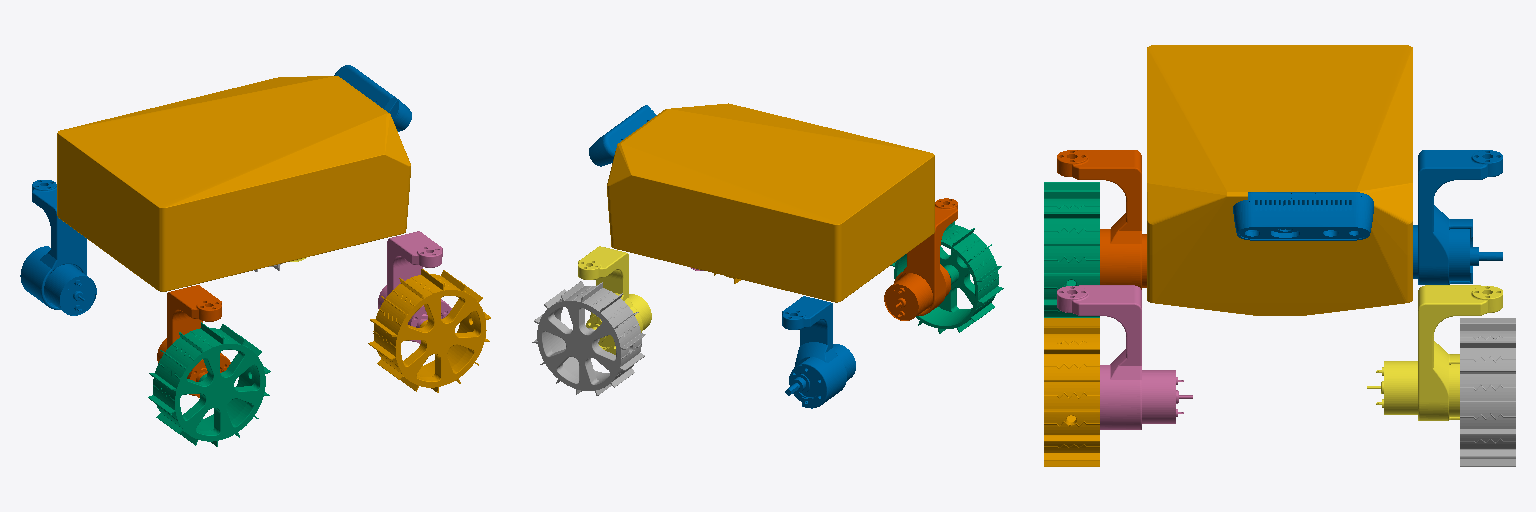
The robot description file, URDF, robot "rocker_bogie_4wd_rover":
<?xml version='1.0' encoding='utf-8'?>
<robot name="rocker_bogie_4wd_rover">
  <!-- KSRC Isaac variant: base_link visual+collision = convex hull (Isaac collider is a convex hull anyway). From rover_rev5.urdf.
  KSRC: generated by fix_rev5.py from rocker_bogie_4wd_rover.urdf (rev5 2026-10-14). Fixes: right steering names swapped, steering axis +z, wheel axes +y, base origin at module center (+18.3 mm), old link names, old joint limits (+-90 deg), wheel meshes re-centred on the steering axis (export offset 4.5 mm; assembly rev5.stl has the tread centred). Masses unchanged. -->
  <link name="base_link">
    <inertial>
      <origin xyz="0.010290799972 0.003240341788 -0.025673826811" rpy="0 0 0" />
      <mass value="0.847900053986" />
      <inertia ixx="0.002302831138" ixy="-0.000113581036669" ixz="0.000108137936490" iyy="0.004180321839" iyz="0.000015141466736" izz="0.005334787938" />
    </inertial>
    <visual>
      <origin xyz="0.01830665319 0 0" rpy="0 0 0" />
      <geometry>
        <mesh filename="meshes/rev5/base_link_hull.stl" scale="0.001 0.001 0.001" />
      </geometry>
    </visual>
    <collision>
      <origin xyz="0.01830665319 0 0" rpy="0 0 0" />
      <geometry>
        <mesh filename="meshes/rev5/base_link_hull.stl" scale="0.001 0.001 0.001" />
      </geometry>
    </collision>
  </link>
  <link name="left_rocker_link">
    <inertial>
      <origin xyz="0.000041281766 0.055638256545 -0.022265167017" rpy="0 0 0" />
      <mass value="0.186900033238" />
      <inertia ixx="0.000095809929947" ixy="0.000000472580802" ixz="-0.000000167203869" iyy="0.001204701265" iyz="0.000027487080501" izz="0.001220632439" />
    </inertial>
    <visual>
      <origin xyz="0 0 0" rpy="0 0 0" />
      <geometry>
        <mesh filename="meshes/rev5/arm_l_link.stl" scale="0.001 0.001 0.001" />
      </geometry>
    </visual>
    <collision>
      <origin xyz="0 0 0" rpy="0 0 0" />
      <geometry>
        <mesh filename="meshes/rev5/arm_l_link.stl" scale="0.001 0.001 0.001" />
      </geometry>
    </collision>
  </link>
  <joint name="left_rocker_joint" type="revolute">
    <parent link="base_link" />
    <child link="left_rocker_link" />
    <origin xyz="0 0.06918739351 0" rpy="0 0 0" />
    <axis xyz="0 1 0" />
    <limit lower="-0.523598775598" upper="0.523598775598" effort="0" velocity="3" />
    <dynamics damping="0.01" friction="0" />
  </joint>
  <link name="right_rocker_link">
    <inertial>
      <origin xyz="0.000045263438 -0.055653675439 -0.022209589971" rpy="0 0 0" />
      <mass value="0.186899954875" />
      <inertia ixx="0.000095650905168" ixy="-0.000000408041754" ixz="-0.000000163472263" iyy="0.001202966667" iyz="-0.000027393035014" izz="0.001218553662" />
    </inertial>
    <visual>
      <origin xyz="0 0 0" rpy="0 0 0" />
      <geometry>
        <mesh filename="meshes/rev5/arm_r_link.stl" scale="0.001 0.001 0.001" />
      </geometry>
    </visual>
    <collision>
      <origin xyz="0 0 0" rpy="0 0 0" />
      <geometry>
        <mesh filename="meshes/rev5/arm_r_link.stl" scale="0.001 0.001 0.001" />
      </geometry>
    </collision>
  </link>
  <joint name="right_rocker_joint" type="revolute">
    <parent link="base_link" />
    <child link="right_rocker_link" />
    <origin xyz="0 -0.06918739351 0" rpy="0 0 0" />
    <axis xyz="0 1 0" />
    <limit lower="-0.523598775598" upper="0.523598775598" effort="0" velocity="3" />
    <dynamics damping="0.01" friction="0" />
    <mimic joint="left_rocker_joint" multiplier="-1" offset="0" />
  </joint>
  <link name="fl_steering_link">
    <inertial>
      <origin xyz="0.006757812092 0.037123406320 -0.066878858232" rpy="0 0 0" />
      <mass value="0.225299994110" />
      <inertia ixx="0.000117798243071" ixy="-0.000000391472486" ixz="0.000005555278691" iyy="0.000079323177632" iyz="0.000007931530746" izz="0.000076905189285" />
    </inertial>
    <visual>
      <origin xyz="0 0 0" rpy="0 0 0" />
      <geometry>
        <mesh filename="meshes/rev5/wheel_link_1.stl" scale="0.001 0.001 0.001" />
      </geometry>
    </visual>
    <collision>
      <origin xyz="0 0 0" rpy="0 0 0" />
      <geometry>
        <mesh filename="meshes/rev5/wheel_link_1.stl" scale="0.001 0.001 0.001" />
      </geometry>
    </collision>
  </link>
  <joint name="fl_steering_joint" type="revolute">
    <parent link="left_rocker_link" />
    <child link="fl_steering_link" />
    <origin xyz="0.10243139721 0.06331260649 -0.04531324865" rpy="0 0 3.14159265359" />
    <axis xyz="0 0 1" />
    <limit lower="-1.5707963267948966" upper="1.5707963267948966" effort="2.942" velocity="4.0" />
    <dynamics damping="0.01" friction="0" />
  </joint>
  <link name="rl_steering_link">
    <inertial>
      <origin xyz="-0.006757812092 -0.037123406320 -0.066878858232" rpy="0 0 0" />
      <mass value="0.225299994110" />
      <inertia ixx="0.000117798243071" ixy="-0.000000391472486" ixz="-0.000005555278691" iyy="0.000079323177632" iyz="-0.000007931530746" izz="0.000076905189285" />
    </inertial>
    <visual>
      <origin xyz="0 0 0" rpy="0 0 0" />
      <geometry>
        <mesh filename="meshes/rev5/wheel_link_3.stl" scale="0.001 0.001 0.001" />
      </geometry>
    </visual>
    <collision>
      <origin xyz="0 0 0" rpy="0 0 0" />
      <geometry>
        <mesh filename="meshes/rev5/wheel_link_3.stl" scale="0.001 0.001 0.001" />
      </geometry>
    </collision>
  </link>
  <joint name="rl_steering_joint" type="revolute">
    <parent link="left_rocker_link" />
    <child link="rl_steering_link" />
    <origin xyz="-0.10243139721 0.06331260649 -0.04531324865" rpy="0 0 0" />
    <axis xyz="0 0 1" />
    <limit lower="-1.5707963267948966" upper="1.5707963267948966" effort="2.942" velocity="4.0" />
    <dynamics damping="0.01" friction="0" />
  </joint>
  <link name="rr_steering_link">
    <inertial>
      <origin xyz="0.006757812092 0.037123406320 -0.066878858232" rpy="0 0 0" />
      <mass value="0.225299994110" />
      <inertia ixx="0.000117798243071" ixy="-0.000000391472486" ixz="0.000005555278691" iyy="0.000079323177632" iyz="0.000007931530746" izz="0.000076905189285" />
    </inertial>
    <visual>
      <origin xyz="0 0 0" rpy="0 0 0" />
      <geometry>
        <mesh filename="meshes/rev5/wheel_link_2.stl" scale="0.001 0.001 0.001" />
      </geometry>
    </visual>
    <collision>
      <origin xyz="0 0 0" rpy="0 0 0" />
      <geometry>
        <mesh filename="meshes/rev5/wheel_link_2.stl" scale="0.001 0.001 0.001" />
      </geometry>
    </collision>
  </link>
  <joint name="fr_steering_joint" type="revolute">
    <parent link="right_rocker_link" />
    <child link="fr_steering_link" />
    <origin xyz="0.10243139721 -0.06331260649 -0.04531324865" rpy="0 0 3.14159265359" />
    <axis xyz="0 0 1" />
    <limit lower="-1.5707963267948966" upper="1.5707963267948966" effort="2.942" velocity="4.0" />
    <dynamics damping="0.01" friction="0" />
  </joint>
  <link name="fr_steering_link">
    <inertial>
      <origin xyz="-0.006757812092 -0.037123406320 -0.066878858232" rpy="0 0 0" />
      <mass value="0.225299994110" />
      <inertia ixx="0.000117798243071" ixy="-0.000000391472486" ixz="-0.000005555278691" iyy="0.000079323177632" iyz="-0.000007931530746" izz="0.000076905189285" />
    </inertial>
    <visual>
      <origin xyz="0 0 0" rpy="0 0 0" />
      <geometry>
        <mesh filename="meshes/rev5/wheel_link_4.stl" scale="0.001 0.001 0.001" />
      </geometry>
    </visual>
    <collision>
      <origin xyz="0 0 0" rpy="0 0 0" />
      <geometry>
        <mesh filename="meshes/rev5/wheel_link_4.stl" scale="0.001 0.001 0.001" />
      </geometry>
    </collision>
  </link>
  <joint name="rr_steering_joint" type="revolute">
    <parent link="right_rocker_link" />
    <child link="rr_steering_link" />
    <origin xyz="-0.10243139721 -0.06331260649 -0.04531324865" rpy="0 0 0" />
    <axis xyz="0 0 1" />
    <limit lower="-1.5707963267948966" upper="1.5707963267948966" effort="2.942" velocity="4.0" />
    <dynamics damping="0.01" friction="0" />
  </joint>
  <link name="fl_wheel_link">
    <inertial>
      <origin xyz="0.000105436252 0.00471609067 4.4891e-08" rpy="0 0 0" />
      <mass value="0.049700283757" />
      <inertia ixx="0.000036112445366" ixy="0.000000021731779" ixz="-0.000000000038044" iyy="0.000062381899087" iyz="0.000000000021673" izz="0.000035915321601" />
    </inertial>
    <visual>
      <origin xyz="0 -0.00446875048 0" rpy="0 0 0" />
      <geometry>
        <mesh filename="meshes/rev5/wheel_1.stl" scale="0.001 0.001 0.001" />
      </geometry>
    </visual>
    <collision>
      <origin xyz="0 -0.00446875048 0" rpy="0 0 0" />
      <geometry>
        <mesh filename="meshes/rev5/wheel_1.stl" scale="0.001 0.001 0.001" />
      </geometry>
    </collision>
  </link>
  <joint name="fl_wheel_joint" type="continuous">
    <parent link="fl_steering_link" />
    <child link="fl_wheel_link" />
    <origin xyz="0 0 -0.0705" rpy="0 0 3.14159265359" />
    <axis xyz="-0 1 -0" />
    <limit effort="1.0" velocity="8.0" />
    <dynamics damping="0.001" friction="0" />
  </joint>
  <link name="fr_wheel_link">
    <inertial>
      <origin xyz="0.000105436252 0.00471609067 4.4891e-08" rpy="0 0 0" />
      <mass value="0.049700283757" />
      <inertia ixx="0.000036112445366" ixy="0.000000021731779" ixz="-0.000000000038044" iyy="0.000062381899087" iyz="0.000000000021673" izz="0.000035915321601" />
    </inertial>
    <visual>
      <origin xyz="0 -0.00446875048 0" rpy="0 0 0" />
      <geometry>
        <mesh filename="meshes/rev5/wheel_2.stl" scale="0.001 0.001 0.001" />
      </geometry>
    </visual>
    <collision>
      <origin xyz="0 -0.00446875048 0" rpy="0 0 0" />
      <geometry>
        <mesh filename="meshes/rev5/wheel_2.stl" scale="0.001 0.001 0.001" />
      </geometry>
    </collision>
  </link>
  <joint name="fr_wheel_joint" type="continuous">
    <parent link="fr_steering_link" />
    <child link="fr_wheel_link" />
    <origin xyz="0 0 -0.0705" rpy="0 0 0" />
    <axis xyz="0 -1 0" />
    <limit effort="1.0" velocity="8.0" />
    <dynamics damping="0.001" friction="0" />
  </joint>
  <link name="rl_wheel_link">
    <inertial>
      <origin xyz="-0.000105517419 -0.00471606197 -4.26e-10" rpy="0 0 0" />
      <mass value="0.049700327360" />
      <inertia ixx="0.000036112478572" ixy="0.000000021752632" ixz="-0.000000000012088" iyy="0.000062381919386" iyz="-0.000000000001085" izz="0.000035915338505" />
    </inertial>
    <visual>
      <origin xyz="0 0.00446875048 0" rpy="0 0 0" />
      <geometry>
        <mesh filename="meshes/rev5/wheel_3.stl" scale="0.001 0.001 0.001" />
      </geometry>
    </visual>
    <collision>
      <origin xyz="0 0.00446875048 0" rpy="0 0 0" />
      <geometry>
        <mesh filename="meshes/rev5/wheel_3.stl" scale="0.001 0.001 0.001" />
      </geometry>
    </collision>
  </link>
  <joint name="rl_wheel_joint" type="continuous">
    <parent link="rl_steering_link" />
    <child link="rl_wheel_link" />
    <origin xyz="0 0 -0.0705" rpy="0 0 3.14159265359" />
    <axis xyz="-0 -1 -0" />
    <limit effort="1.0" velocity="8.0" />
    <dynamics damping="0.001" friction="0" />
  </joint>
  <link name="rr_wheel_link">
    <inertial>
      <origin xyz="-0.000105517419 -0.00471606197 -4.26e-10" rpy="0 0 0" />
      <mass value="0.049700327360" />
      <inertia ixx="0.000036112478572" ixy="0.000000021752632" ixz="-0.000000000012088" iyy="0.000062381919386" iyz="-0.000000000001085" izz="0.000035915338505" />
    </inertial>
    <visual>
      <origin xyz="0 0.00446875048 0" rpy="0 0 0" />
      <geometry>
        <mesh filename="meshes/rev5/wheel_4.stl" scale="0.001 0.001 0.001" />
      </geometry>
    </visual>
    <collision>
      <origin xyz="0 0.00446875048 0" rpy="0 0 0" />
      <geometry>
        <mesh filename="meshes/rev5/wheel_4.stl" scale="0.001 0.001 0.001" />
      </geometry>
    </collision>
  </link>
  <joint name="rr_wheel_joint" type="continuous">
    <parent link="rr_steering_link" />
    <child link="rr_wheel_link" />
    <origin xyz="0 0 -0.0705" rpy="0 0 0" />
    <axis xyz="0 1 0" />
    <limit effort="1.0" velocity="8.0" />
    <dynamics damping="0.001" friction="0" />
  </joint>
  <link name="imu_link">
    <inertial>
      <origin xyz="0.000039949849 0.000108307373 -0.002011729835" rpy="0 0 0" />
      <mass value="0.002400000279" />
      <inertia ixx="0.000000056092954" ixy="-0.000000000148781" ixz="-0.000000000114852" iyy="0.000000136628269" iyz="-0.000000000005384" izz="0.000000188602298" />
    </inertial>
    <visual>
      <origin xyz="0 0 0" rpy="0 0 0" />
      <geometry>
        <mesh filename="meshes/rev5/IMU.stl" scale="0.001 0.001 0.001" />
      </geometry>
    </visual>
    <collision>
      <origin xyz="0 0 0" rpy="0 0 0" />
      <geometry>
        <mesh filename="meshes/rev5/IMU.stl" scale="0.001 0.001 0.001" />
      </geometry>
    </collision>
  </link>
  <joint name="base_to_imu" type="fixed">
    <parent link="base_link" />
    <child link="imu_link" />
    <origin xyz="0.0003 0 -0.021473" rpy="0 0 0" />
  </joint>
  <link name="camera_link">
    <inertial>
      <origin xyz="-0.011811875567 0.008683428205 0.004231746168" rpy="0 0 0" />
      <mass value="0.073299981594" />
      <inertia ixx="0.000045771873705" ixy="0.000000388879236" ixz="0.000000069330944" iyy="0.000006626435639" iyz="-0.000000147048200" izz="0.000045944278179" />
    </inertial>
    <visual>
      <origin xyz="0 0 0" rpy="0 0 0" />
      <geometry>
        <mesh filename="meshes/rev5/Camera.stl" scale="0.001 0.001 0.001" />
      </geometry>
    </visual>
    <collision>
      <origin xyz="0 0 0" rpy="0 0 0" />
      <geometry>
        <mesh filename="meshes/rev5/Camera.stl" scale="0.001 0.001 0.001" />
      </geometry>
    </collision>
  </link>
  <joint name="base_to_camera" type="fixed">
    <parent link="base_link" />
    <child link="camera_link" />
    <origin xyz="0.14329239587 0.00747451631 0.01521787607" rpy="0 0.349066 0" />
  </joint>
  <link name="camera_left_optical_frame" />
  <joint name="camera_to_left_optical_frame" type="fixed">
    <parent link="camera_link" />
    <child link="camera_left_optical_frame" />
    <origin xyz="0 0.0175 0" rpy="-1.570796326795 0 -1.570796326795" />
  </joint>
  <link name="camera_right_optical_frame" />
  <joint name="camera_to_right_optical_frame" type="fixed">
    <parent link="camera_link" />
    <child link="camera_right_optical_frame" />
    <origin xyz="0 -0.0325 0" rpy="-1.570796326795 0 -1.570796326795" />
  </joint>
</robot>

--- Facts derived from the render (not from the file) ---
The picture shows the robot from 3 angles, left to right: view 1: azimuth 30°, elevation 25°; view 2: azimuth 150°, elevation 25°; view 3: azimuth 270°, elevation 25°; orthographic projection.
Model rocker_bogie_4wd_rover with 15 links and 14 joints (6 revolute, 4 continuous, 4 fixed), rooted at base_link, posed every joint at zero.
Links seen in each view (by area): view 1: base_link, fr_wheel_link, rr_wheel_link, rl_steering_link, fr_steering_link, rr_steering_link, camera_link; view 2: base_link, fl_wheel_link, rl_steering_link, rr_wheel_link, rr_steering_link, fl_steering_link, camera_link; view 3: base_link, fl_wheel_link, fr_wheel_link, fr_steering_link, fl_steering_link, rl_steering_link, camera_link, rr_wheel_link, rr_steering_link.
Boxes of the visible links, x1,y1,x2,y2 form: base_link: [57, 76, 410, 291]; fr_wheel_link: [368, 269, 490, 392]; rr_wheel_link: [148, 322, 270, 446]; rl_steering_link: [20, 180, 96, 315]; fr_steering_link: [378, 231, 451, 343]; rr_steering_link: [157, 285, 230, 397]; camera_link: [334, 65, 411, 131]; base_link: [607, 103, 934, 302]; fl_wheel_link: [532, 281, 645, 395]; rl_steering_link: [782, 296, 855, 408]; rr_wheel_link: [890, 221, 1003, 333]; rr_steering_link: [884, 198, 957, 320]; fl_steering_link: [578, 246, 651, 354]; camera_link: [589, 105, 656, 166]; base_link: [1147, 45, 1412, 315]; fl_wheel_link: [1460, 318, 1515, 466]; fr_wheel_link: [1044, 318, 1099, 466]; fr_steering_link: [1057, 285, 1192, 429]; fl_steering_link: [1367, 285, 1502, 420]; rl_steering_link: [1413, 150, 1502, 284]; camera_link: [1233, 192, 1373, 240]; rr_wheel_link: [1044, 182, 1099, 317]; rr_steering_link: [1057, 150, 1146, 289].
Bounding box of the posed robot: 0.2994 × 0.3004 × 0.2024 m (x, y, z).
10 mesh visuals loaded from 13 distinct referenced files (10 binary STL); not drawn: 3 (reference not matched to a file when rendering).
